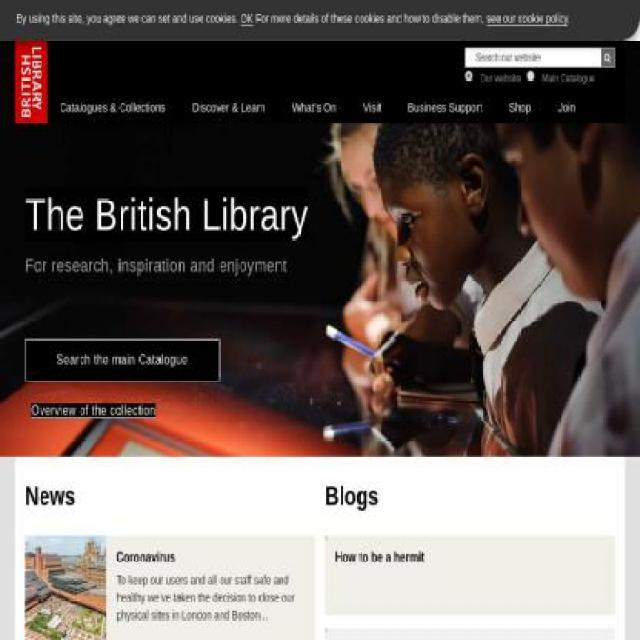button: (25, 535, 107, 639), (25, 339, 220, 381), (47, 93, 181, 124), (179, 93, 281, 124), (396, 93, 498, 124), (279, 93, 352, 124), (32, 403, 156, 419), (497, 93, 546, 124), (350, 93, 396, 124), (546, 93, 591, 124), (486, 12, 568, 26), (600, 48, 614, 67), (240, 12, 254, 26), (325, 535, 327, 539), (325, 627, 327, 631)
field: (464, 48, 616, 68), (527, 70, 536, 82), (465, 70, 473, 82)
